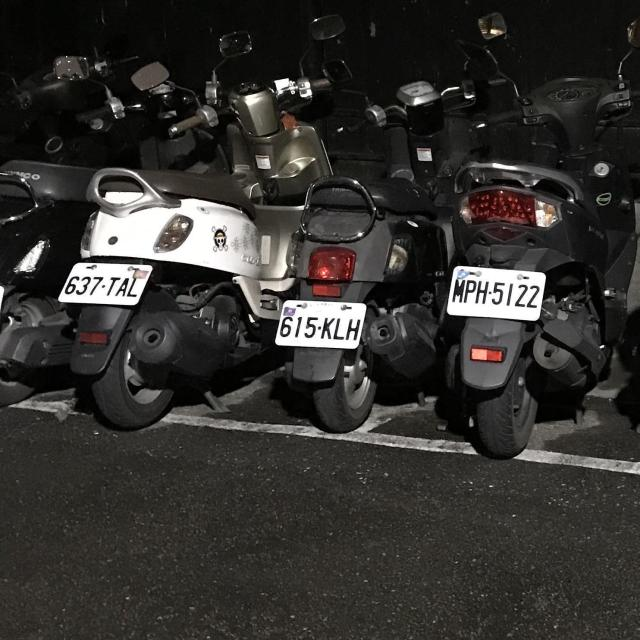W: (444, 261, 547, 323), (272, 296, 369, 352), (58, 256, 154, 310)
